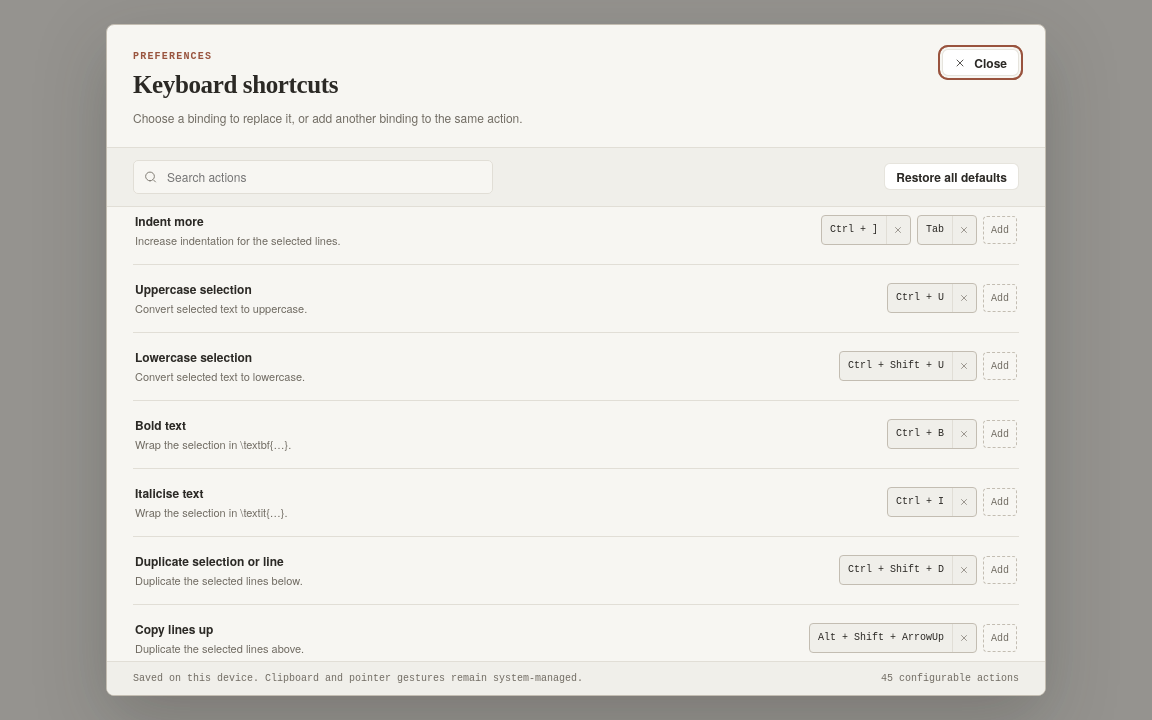
Test: ShortcutSettingsDialog › records a replacement binding
The width and height of the screenshot is (1152, 720).
(page scrolled)
Click the button with aria-label "Change Bold text" at (920, 434), box [888,420,952,448]
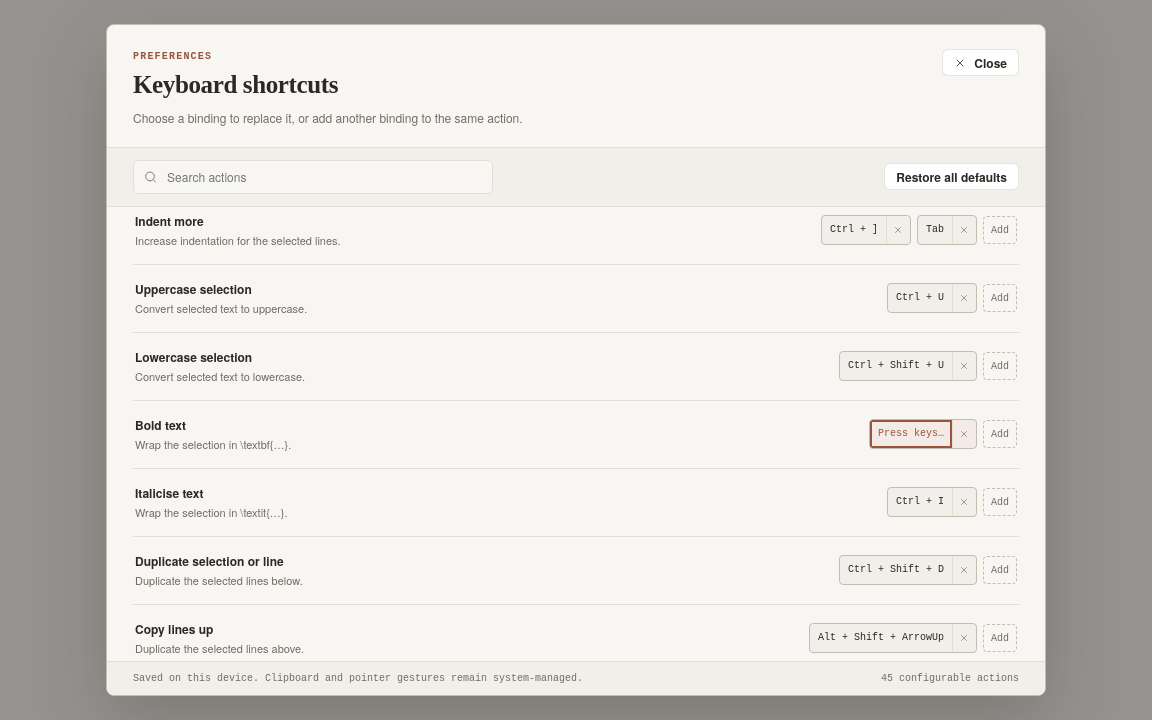
Press e in the button with aria-label "Change Bold text", box [870,420,952,448]
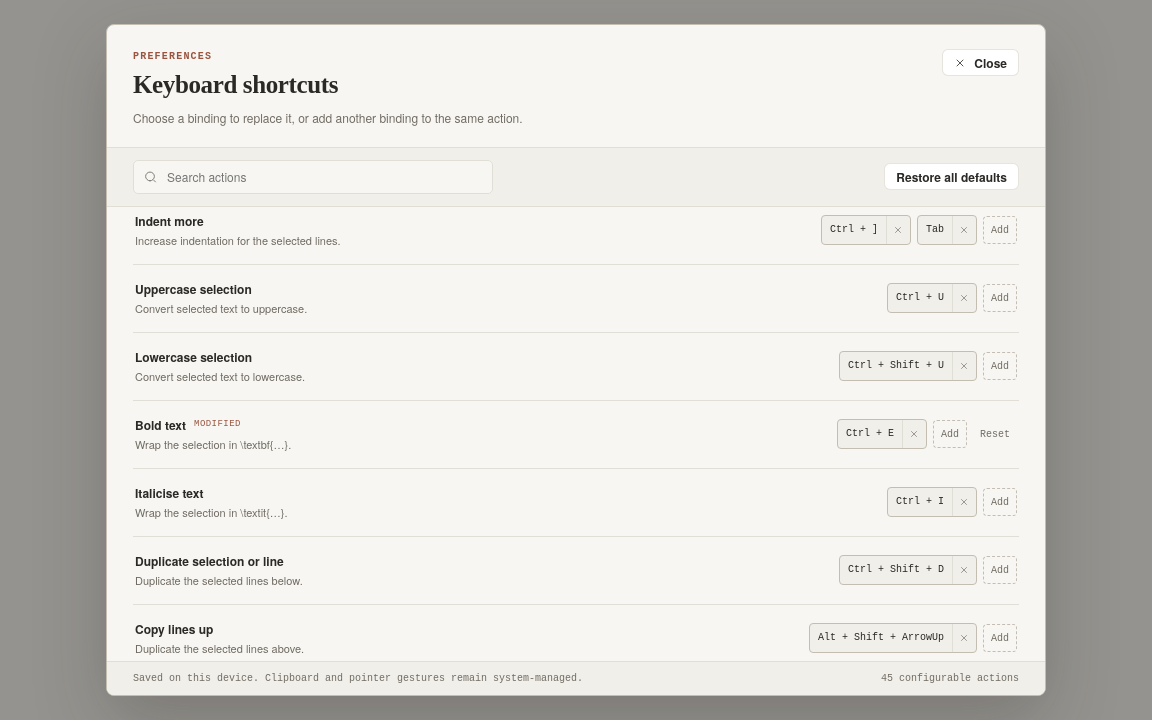
expect the button with aria-label "Change Bold text" reads "Ctrl + E": met, box [838,420,902,448]
